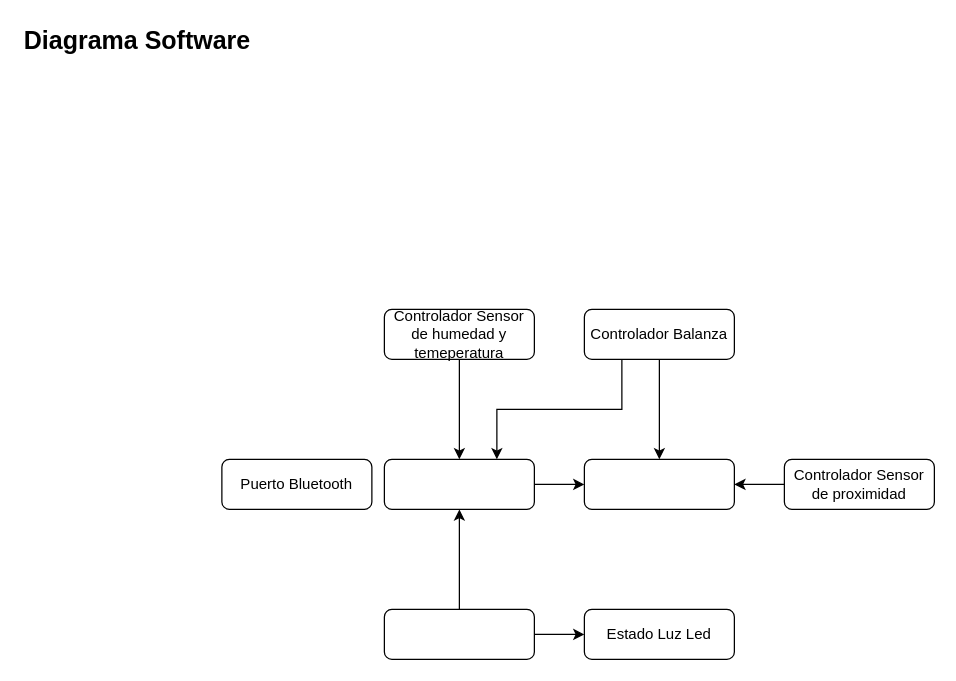
Some shapes in this 956 by 681 pixel diagram are drawn without their labels. The centre of each missing label's shape, as x and y in pixels:
Controlador Bluetooth: the point at 458,483
Controlador Motores: the point at 658,483
Controlador Pulsador: the point at 458,633
